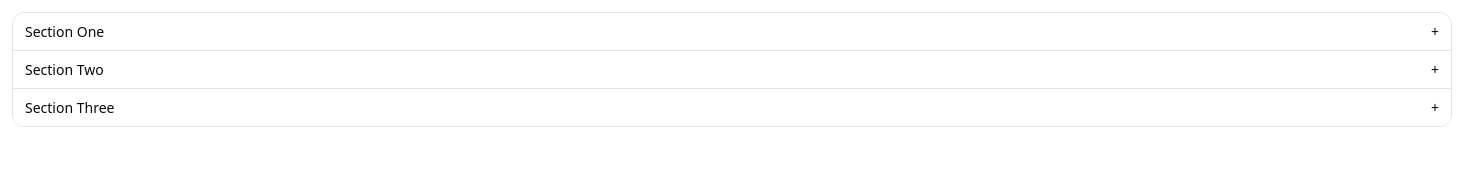
Scenario: Accordion › edge cases - missing/invalid props › renders without onChange handler
Click the button "Section One +" at (65, 32), box [13, 13, 1451, 50]
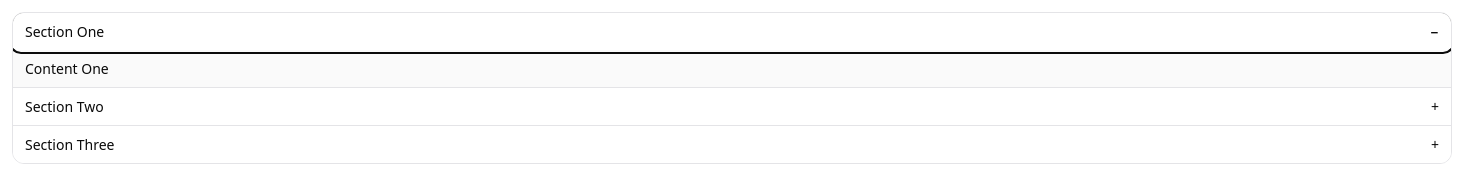
Check: the text "Content One" is shown, box [13, 50, 1451, 87]
